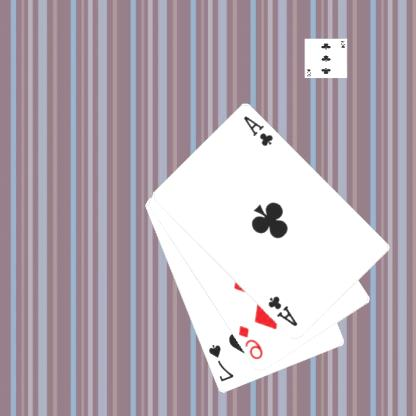7S: (208, 342, 236, 384)
9D: (237, 323, 266, 362)
AC: (242, 113, 277, 148), (267, 294, 301, 328)
